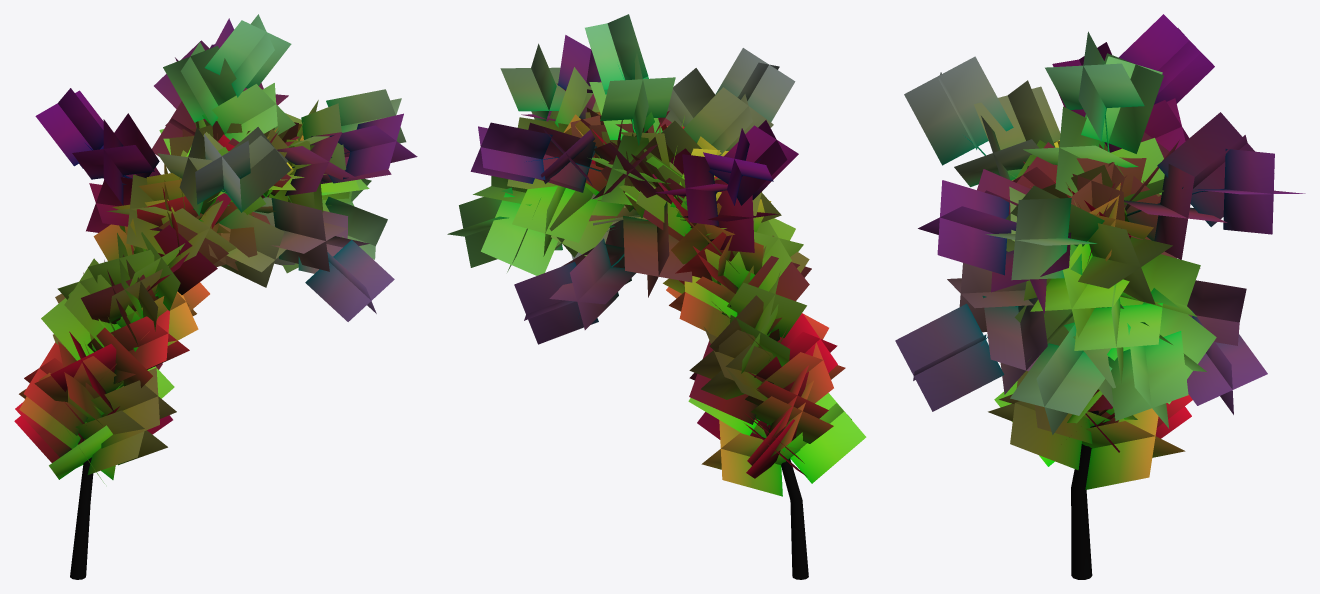
Rendered from URP_P3_Tree_15_LOD_2.fbx.
The picture shows the model from 3 angles, left to right: view 1: azimuth 30°, elevation 25°; view 2: azimuth 150°, elevation 25°; view 3: azimuth 270°, elevation 25°; orthographic projection. The views are drawn at different scales.
Parts seen in each view (by area): view 1: Tree_15_LOD_2; view 2: Tree_15_LOD_2; view 3: Tree_15_LOD_2.
Part boxes in pixels (left/top/right/bottom): Tree_15_LOD_2: left=14, top=14, right=417, bottom=579; Tree_15_LOD_2: left=447, top=14, right=866, bottom=579; Tree_15_LOD_2: left=895, top=14, right=1305, bottom=579.
Bounding box in the file's own units: 665 × 902 × 519.
